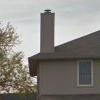Chimney: (36, 5, 70, 48)
